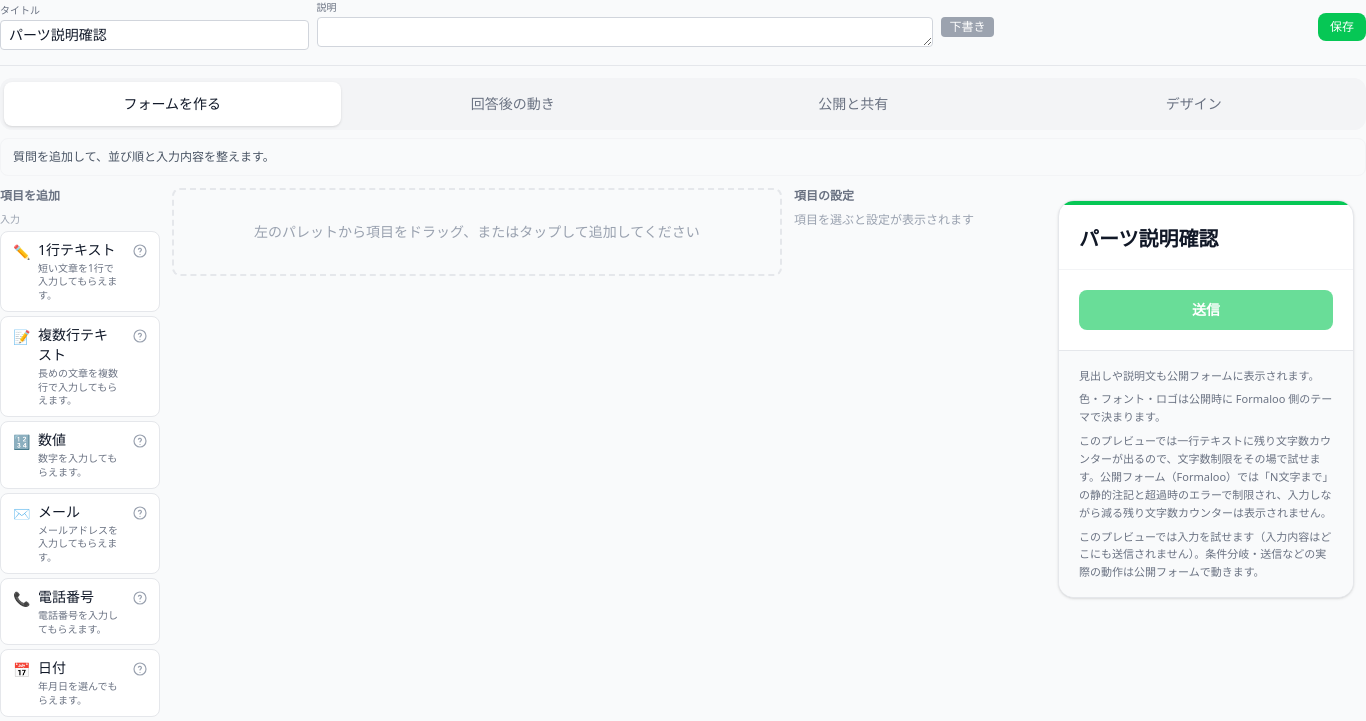
Test: builder parts help — パレットの説明ポップオーバー › 説明を開いてもパーツは追加されない
This screenshot has width=1366, height=721.
Click the button named "数値の説明を見る": (140, 441) x1=124 y1=425 x2=156 y2=457
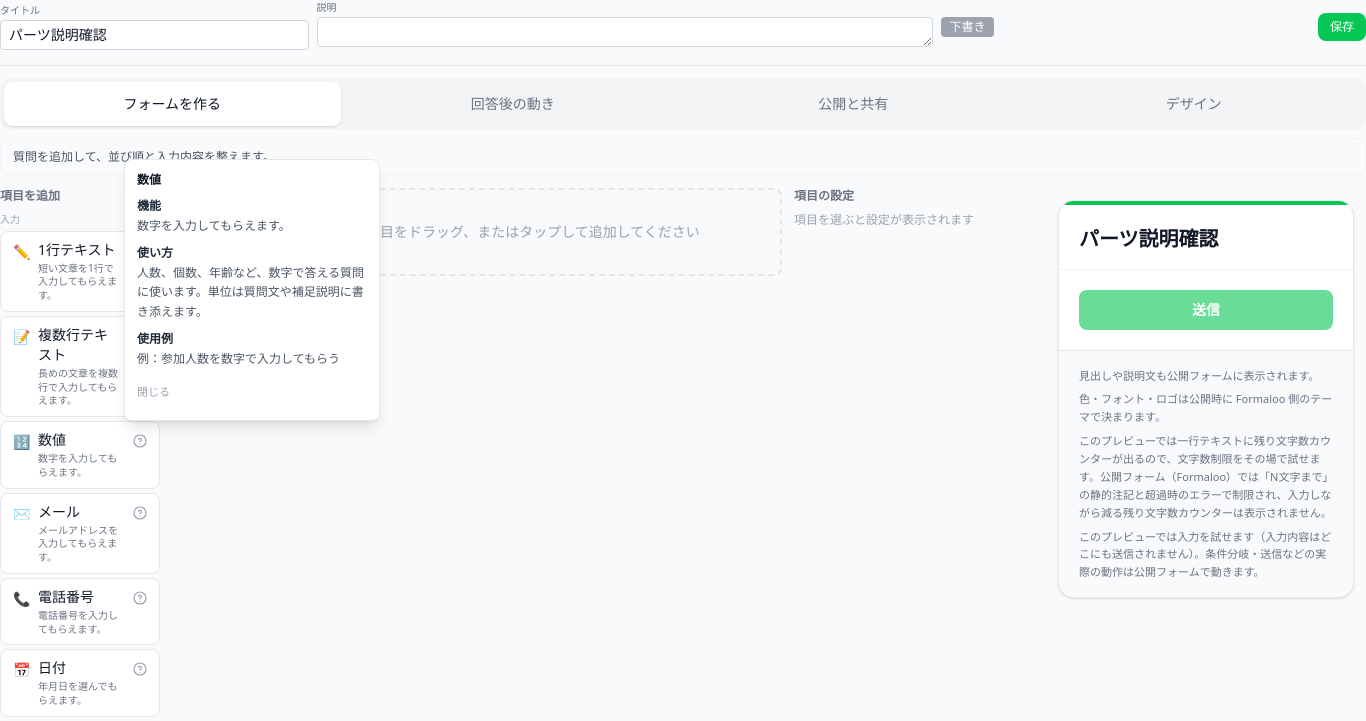
Expected: the text "左のパレットから項目をドラッグ、またはタップして追加してください" is shown, x1=172 y1=188 x2=782 y2=276
Expected: the dialog named "数値の説明" is shown, x1=124 y1=159 x2=380 y2=421
